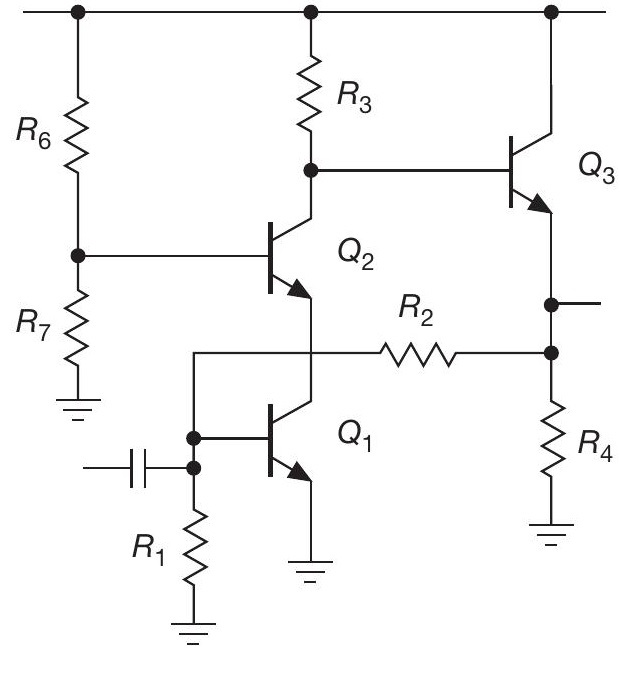capacity: (123, 442, 153, 492)
gnd: (281, 553, 338, 589), (523, 517, 578, 552), (50, 392, 104, 427), (165, 616, 219, 650)
npn: (496, 122, 564, 222), (257, 208, 322, 305), (258, 393, 321, 487)
resistor: (55, 87, 97, 182), (290, 47, 329, 139), (56, 281, 95, 372), (372, 334, 462, 373), (533, 392, 571, 484), (176, 502, 215, 591)
